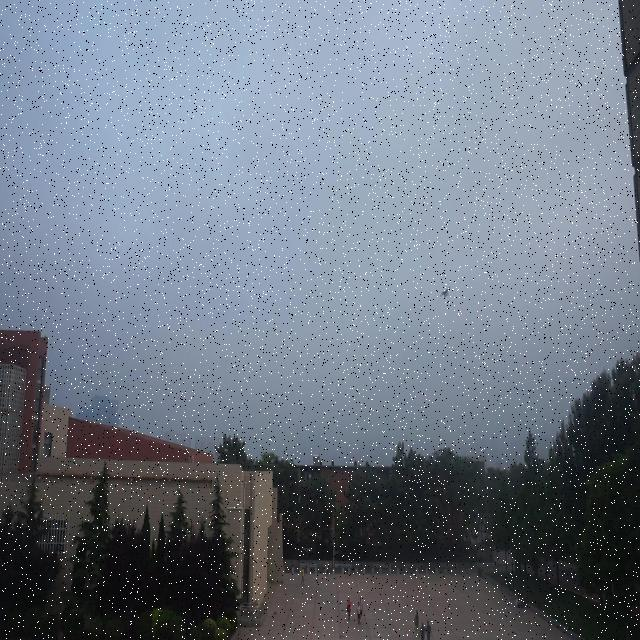UAV: (440, 286, 450, 298)
